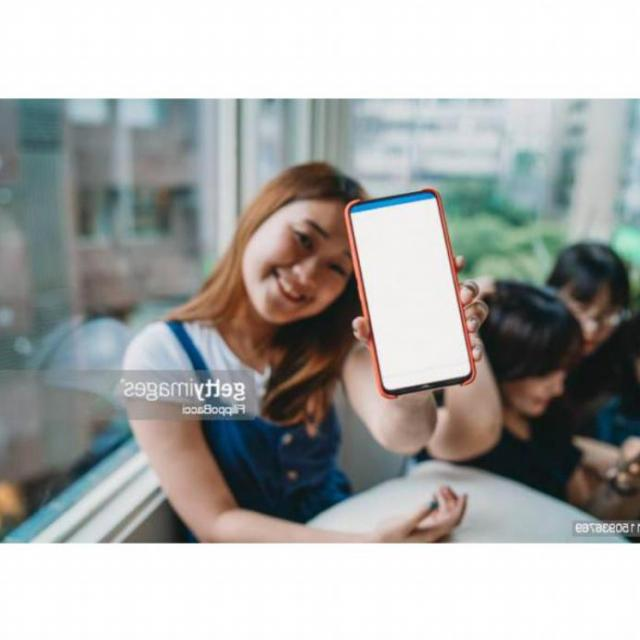device: (343, 186, 475, 396)
live: (251, 205, 348, 317)
